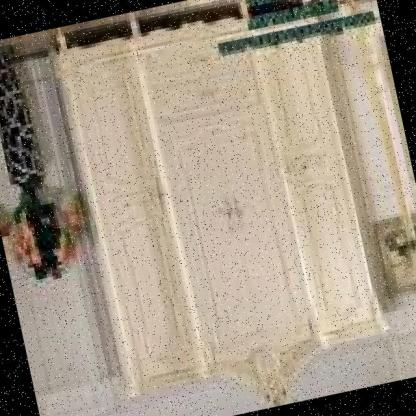Closet: (38, 0, 398, 416)
